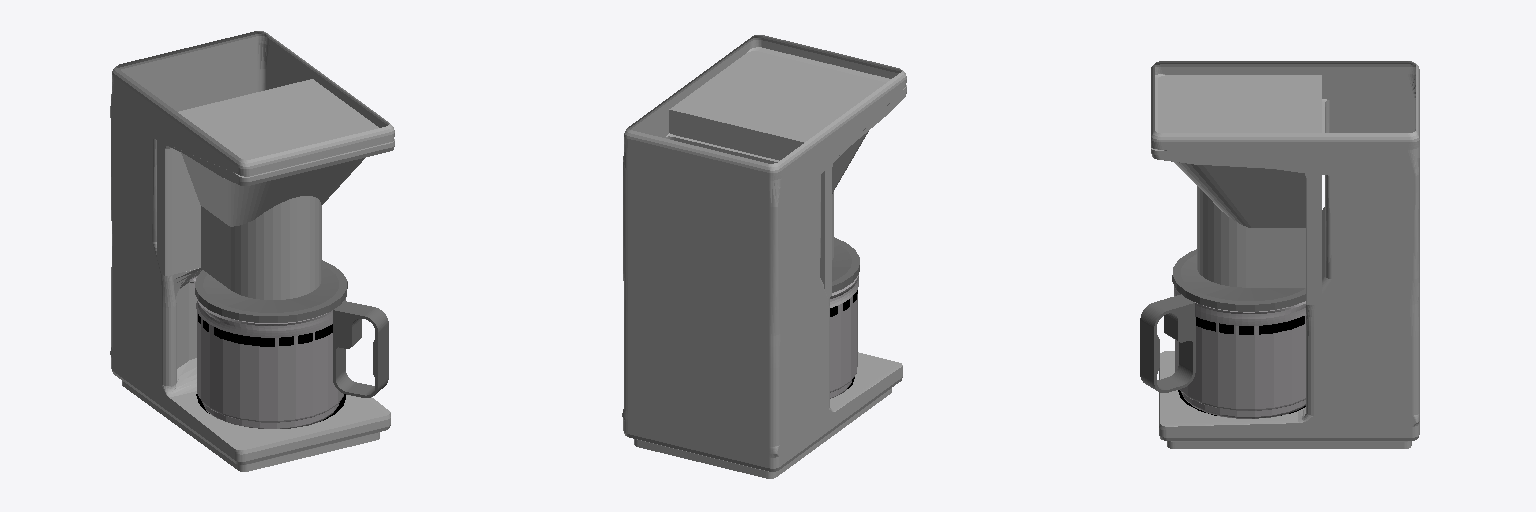
Rendered from coffee.obj.
3 views of the same model, side by side, from view 1: azimuth 30°, elevation 25°; view 2: azimuth 150°, elevation 25°; view 3: azimuth 270°, elevation 25° (orthographic).
Parts seen in each view (by area): view 1: cafe1, cafe3, caffetiere, couvercle, caffetiere_2, caffetiere_1; view 2: cafe1, cafe3, caffetiere, couvercle; view 3: cafe1, cafe3, caffetiere, caffetiere_2, couvercle, caffetiere_1.
Part boxes in pixels (x1,y1,x2,y2): cafe1: (110, 31, 394, 471); cafe3: (157, 79, 394, 299); caffetiere: (190, 276, 345, 428); couvercle: (195, 260, 347, 322); caffetiere_2: (333, 301, 388, 397); caffetiere_1: (198, 314, 332, 346); cafe1: (622, 35, 906, 478); cafe3: (669, 51, 906, 298); caffetiere: (830, 275, 858, 398); couvercle: (832, 237, 859, 292); cafe1: (1151, 61, 1419, 448); cafe3: (1151, 75, 1321, 304); caffetiere: (1174, 286, 1305, 418); caffetiere_2: (1140, 294, 1195, 392); couvercle: (1172, 249, 1305, 311); caffetiere_1: (1196, 316, 1304, 334).
Bounding box in the file's own units: 280 × 546 × 436.